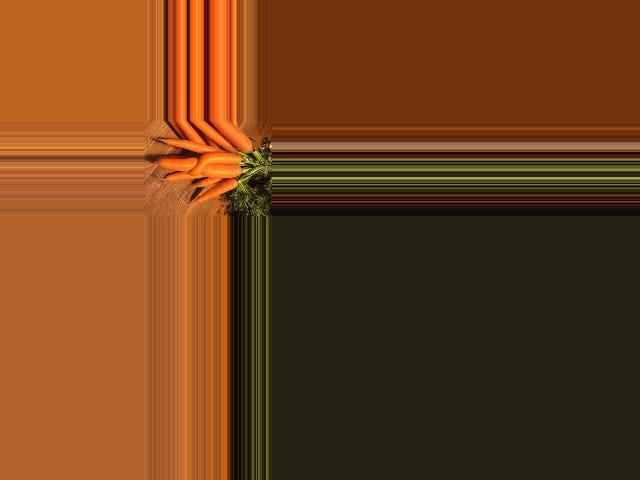carrot: (212, 120, 256, 153)
